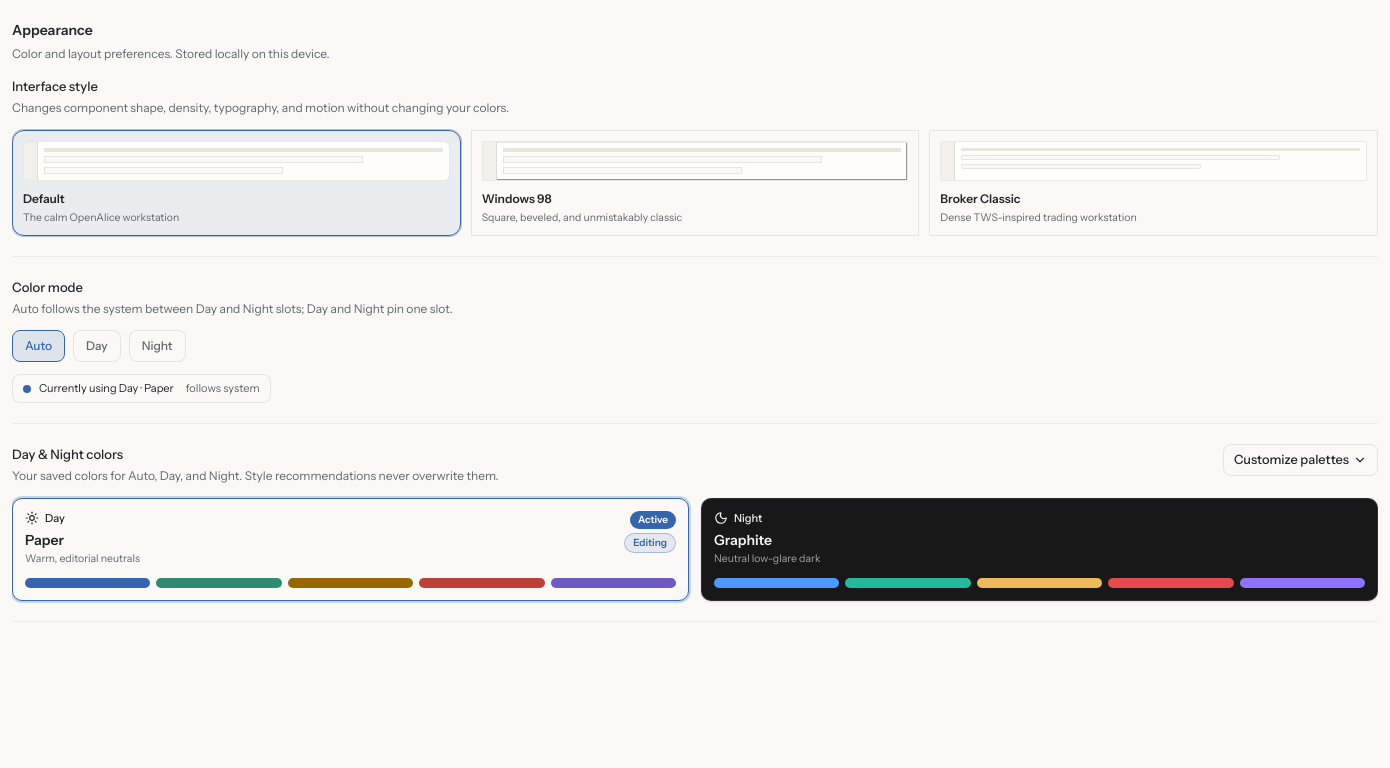
Test: AppearanceSection palette pair editor › switches component style immediately without changing the palette pair
Step 1. Click the radio button labelled "Windows 98" → (695, 183), box [471, 130, 919, 236]
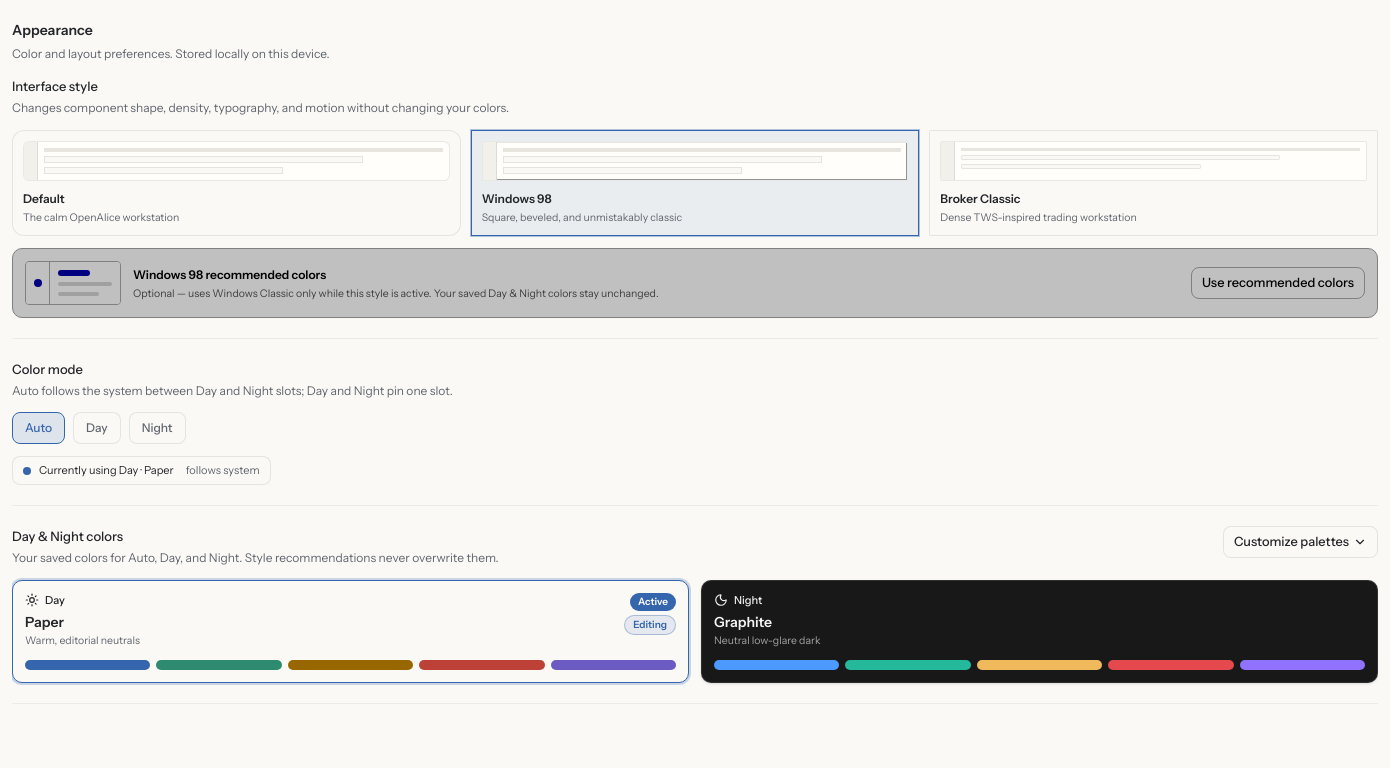
expect the button "Use recommended colors" is shown: met, box [1191, 267, 1365, 299]
